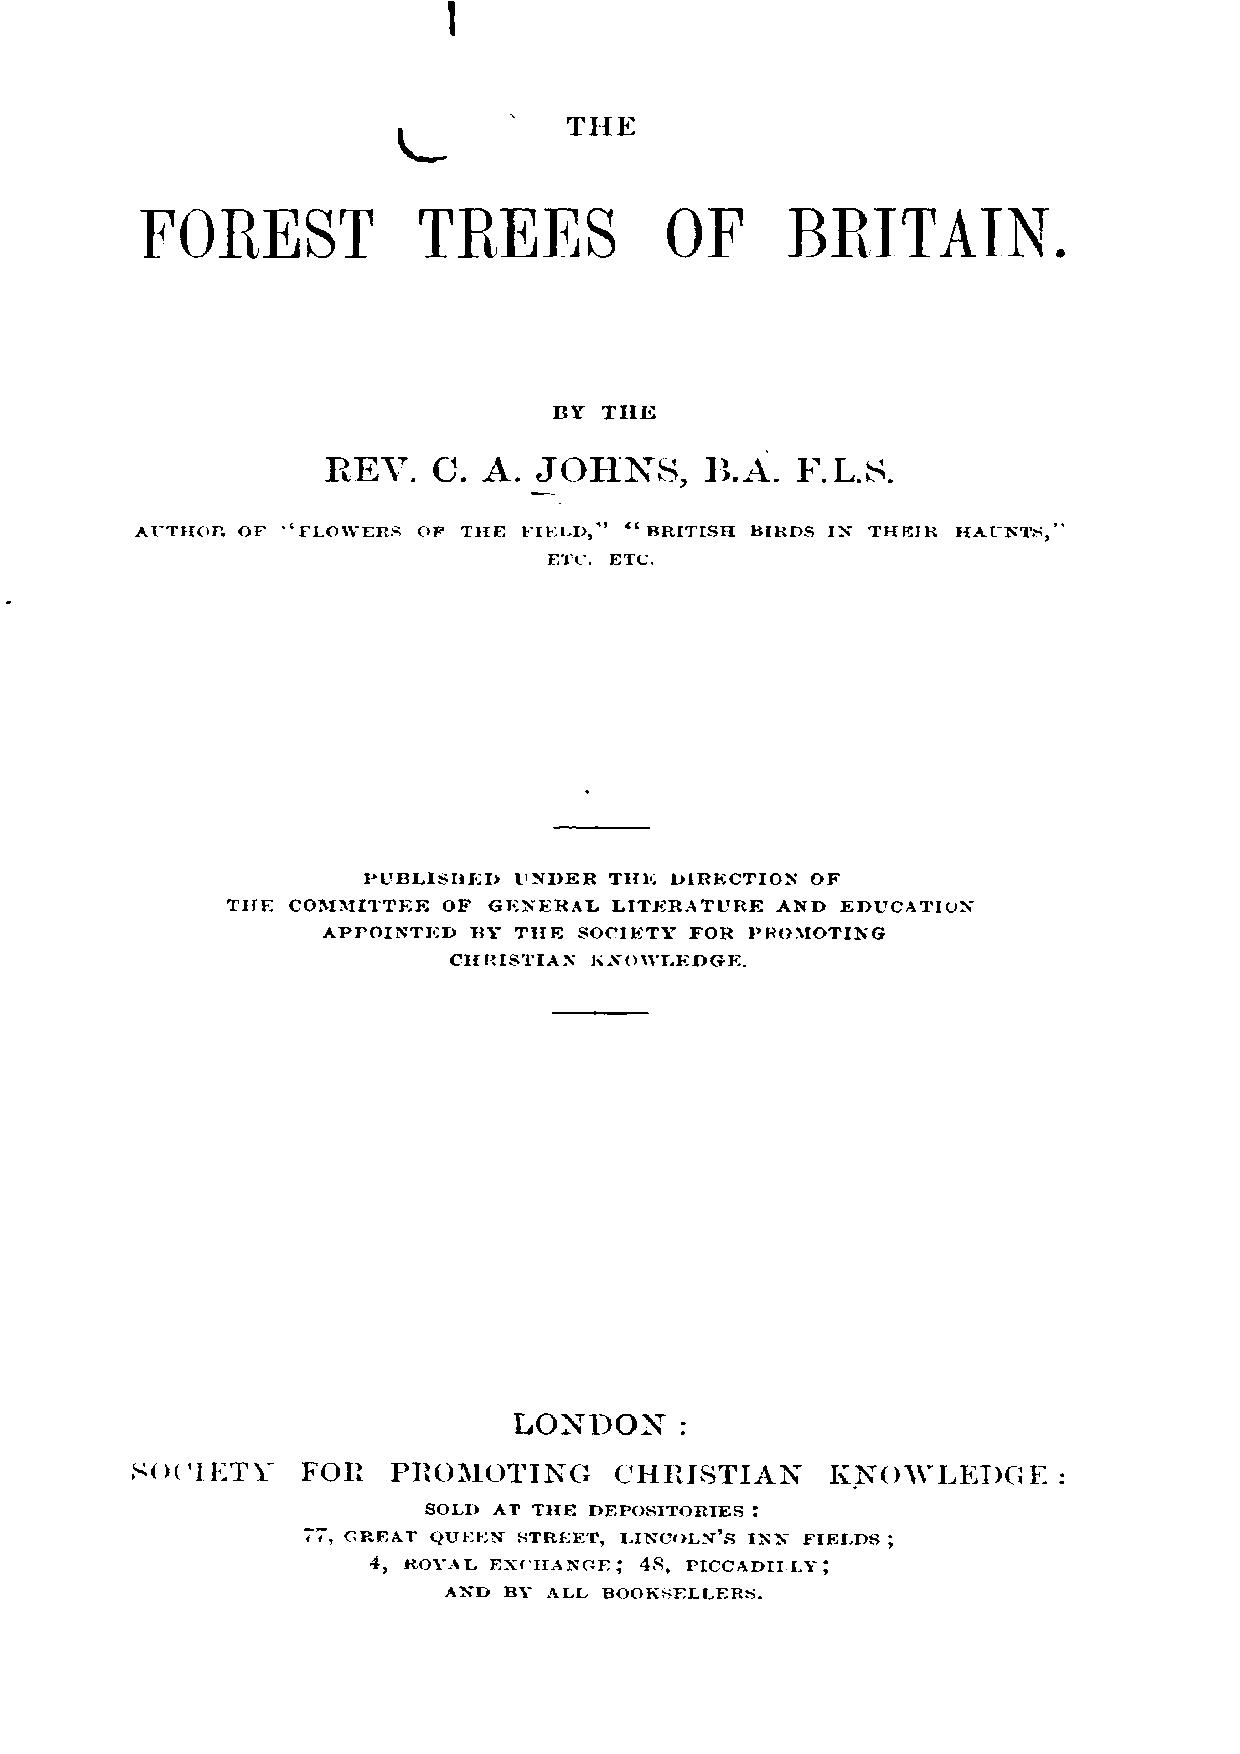author: (321, 400, 894, 486)
title: (138, 111, 1067, 263)
